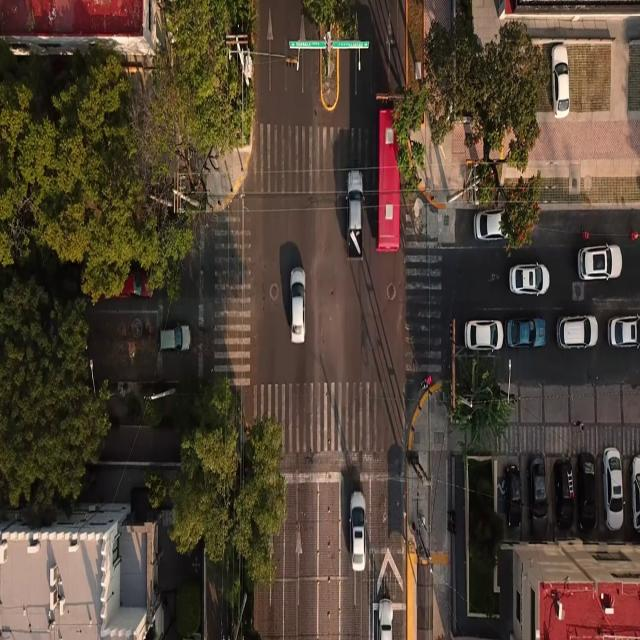car: (603, 448, 623, 530), (577, 453, 597, 531), (578, 245, 622, 279), (554, 458, 574, 530), (527, 455, 547, 525), (551, 45, 569, 118), (350, 492, 366, 572), (557, 316, 597, 348), (509, 264, 549, 295), (465, 320, 503, 351), (290, 267, 305, 343), (506, 319, 546, 347), (504, 464, 521, 527), (608, 316, 640, 348), (474, 210, 506, 240), (118, 271, 152, 297), (160, 325, 191, 351), (631, 456, 639, 531), (378, 599, 392, 639)
truck: (347, 170, 363, 259)
